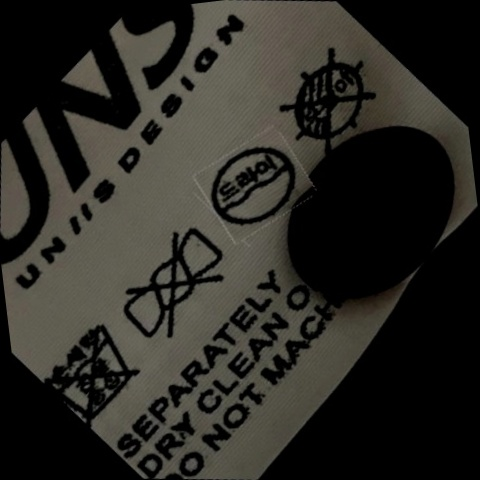DN_dry: (271, 44, 385, 159)
DN_wring: (110, 222, 238, 351)
dry_clean: (203, 133, 306, 239)
hand_wash: (41, 310, 149, 427)
